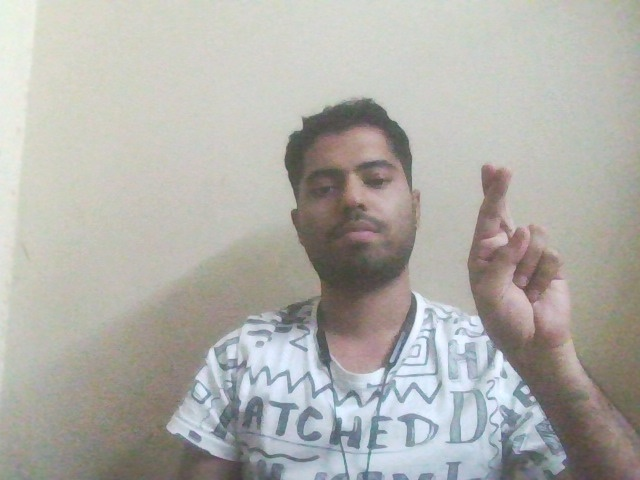V: (451, 145, 589, 356)
